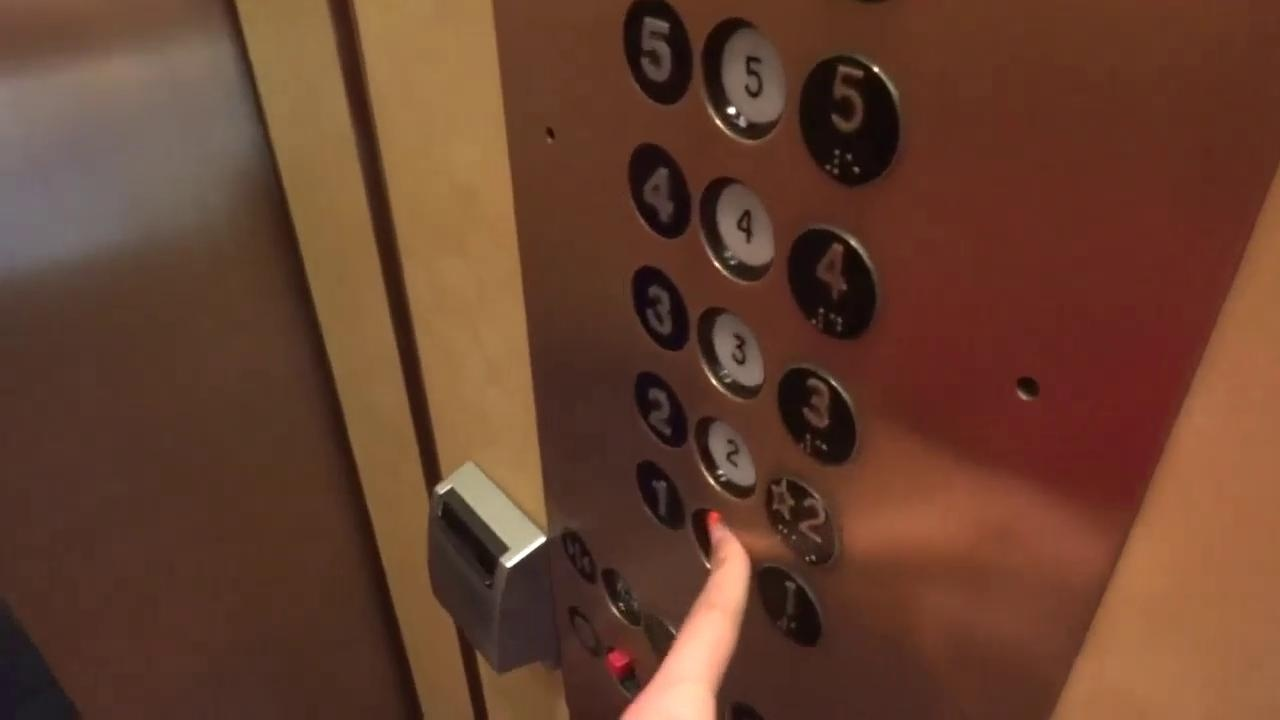1: (754, 560, 824, 651), (632, 458, 686, 532)
2: (761, 474, 830, 561), (693, 414, 757, 506), (632, 371, 687, 449)
3: (775, 364, 857, 466), (694, 306, 766, 402), (628, 265, 691, 352)
4: (787, 228, 877, 336), (696, 178, 775, 284), (625, 142, 691, 239)
5: (797, 57, 900, 188), (697, 16, 787, 147), (618, 1, 696, 106)
blur: (601, 566, 642, 628), (602, 643, 641, 699), (567, 606, 602, 657)
close: (561, 526, 596, 583)
